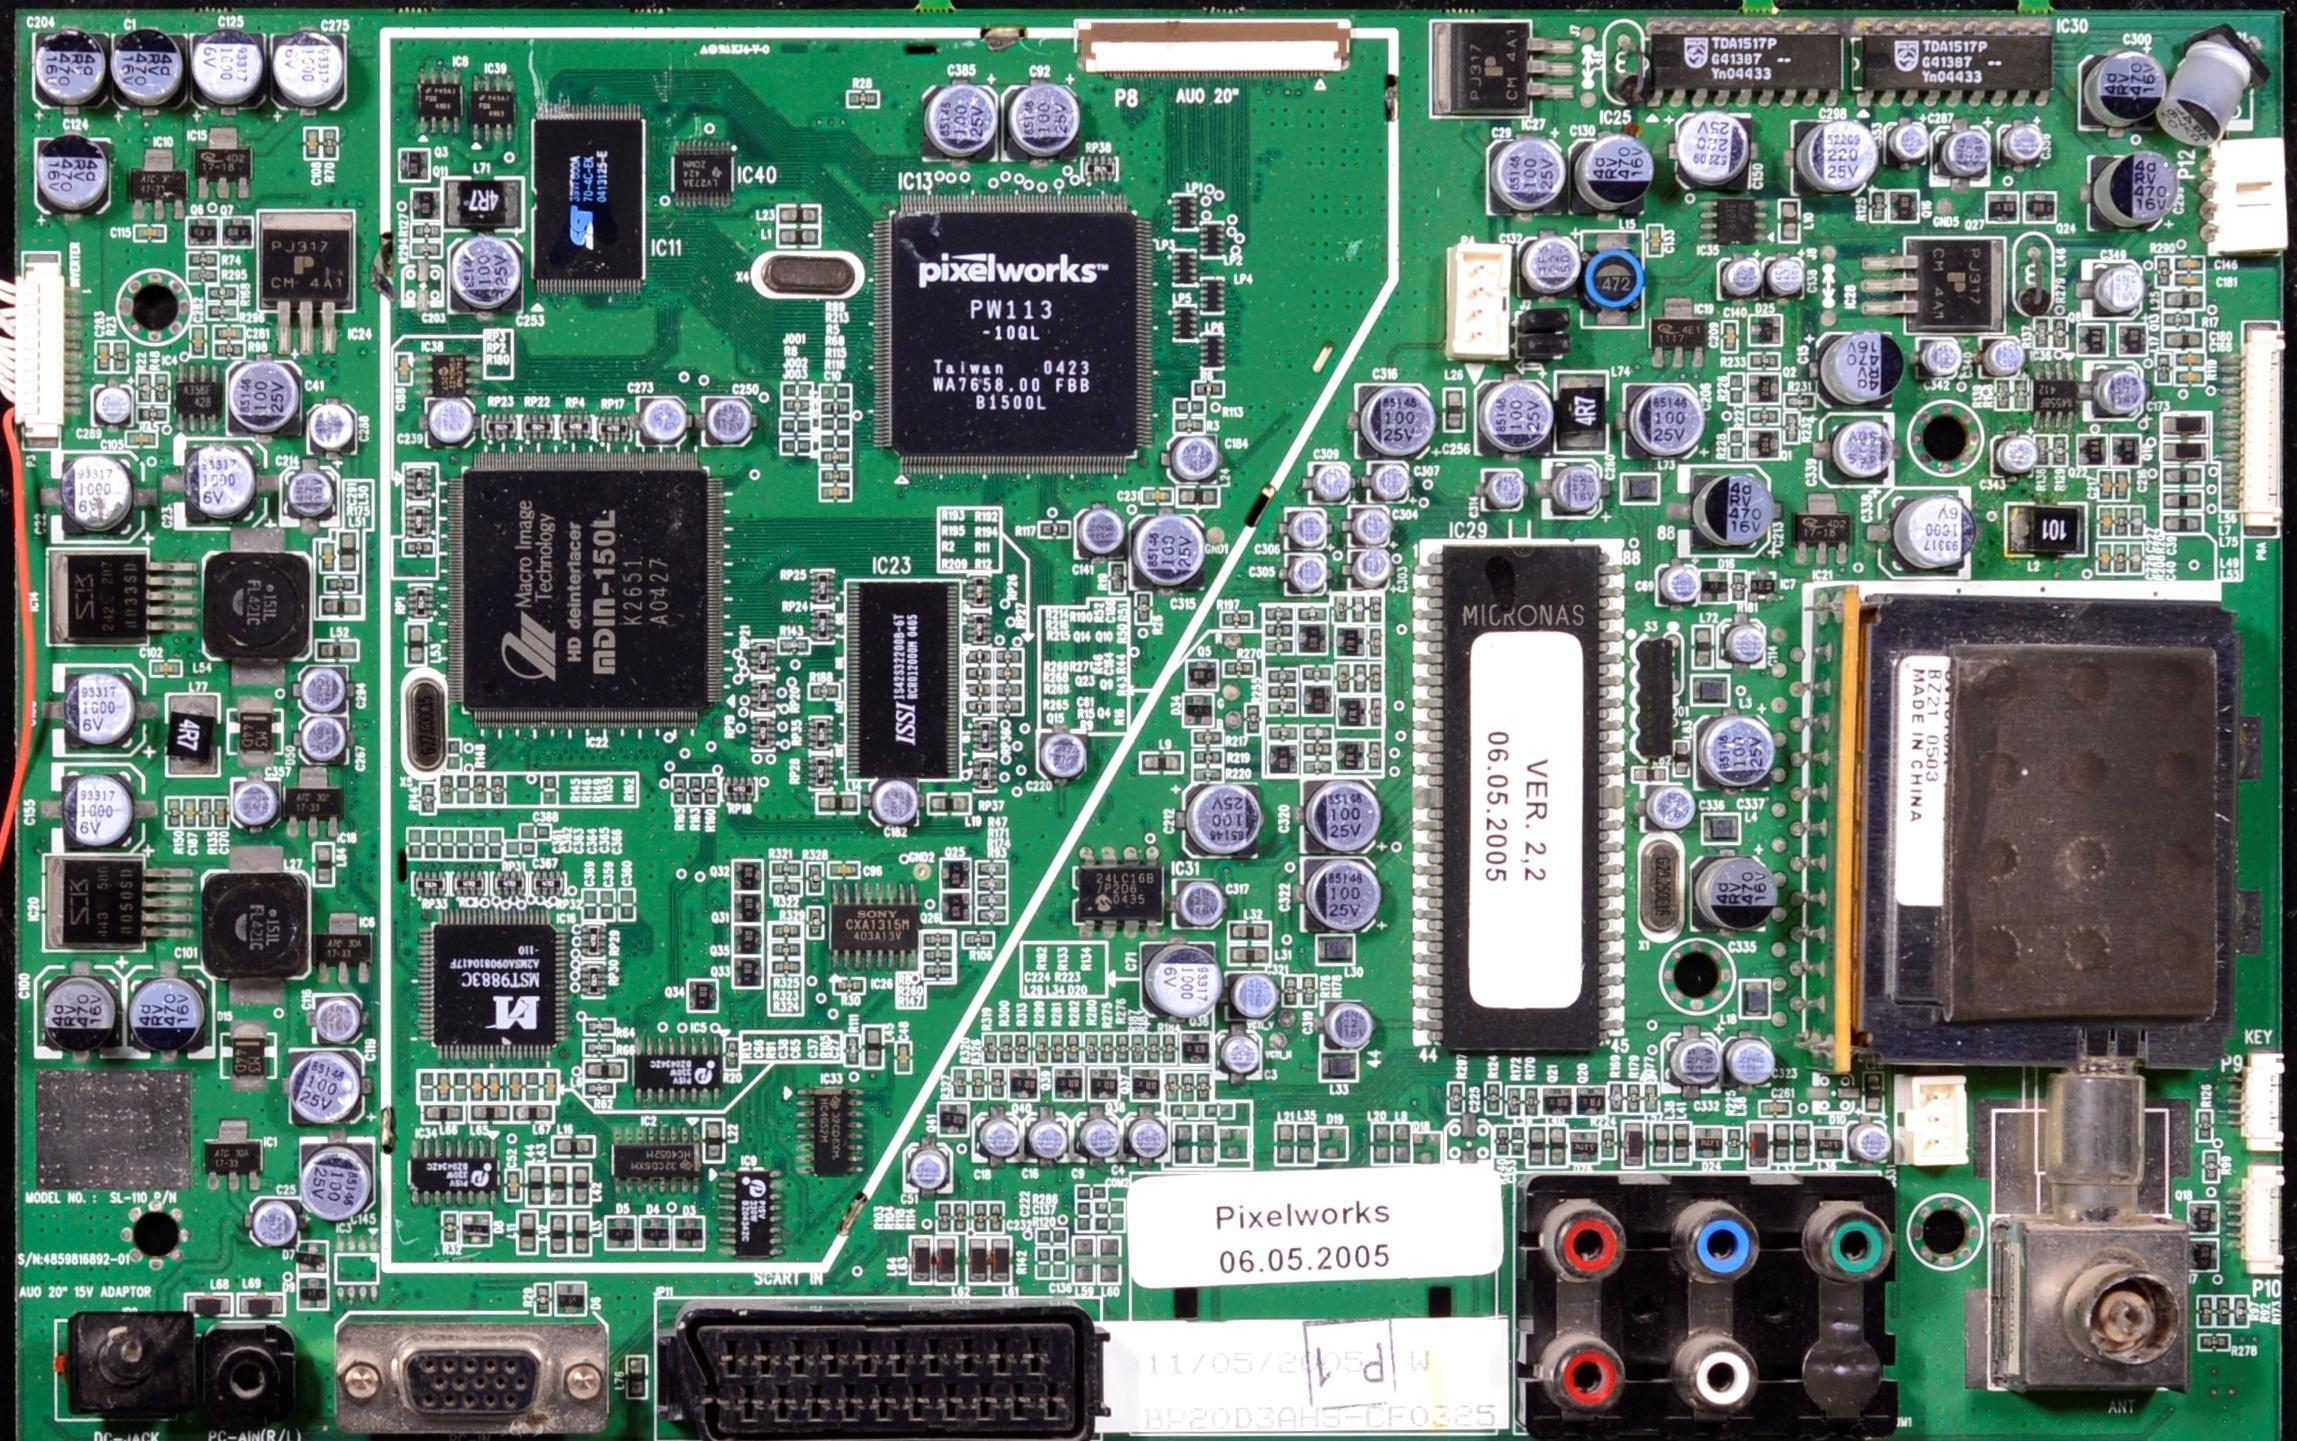Capacitor: (1698, 472, 1762, 548), (56, 777, 131, 840), (309, 1152, 371, 1218), (190, 447, 249, 516), (456, 249, 520, 312), (117, 31, 174, 99), (291, 1057, 355, 1117), (928, 90, 992, 148), (1812, 124, 1870, 189), (72, 677, 127, 744), (1153, 951, 1224, 1005), (42, 136, 99, 200), (1833, 338, 1895, 396), (49, 979, 107, 1042), (1365, 391, 1427, 448), (2111, 161, 2165, 226), (1499, 141, 1556, 199), (41, 38, 96, 100), (1909, 500, 1964, 559), (66, 470, 123, 527), (240, 368, 293, 427), (198, 37, 250, 94), (1194, 796, 1246, 850), (1708, 862, 1761, 916), (1322, 789, 1375, 843), (1138, 524, 1197, 573), (1687, 123, 1738, 176), (1833, 420, 1884, 473), (1704, 725, 1757, 777), (2097, 60, 2148, 112), (1493, 388, 1542, 444), (279, 38, 339, 82), (1589, 142, 1635, 197), (1637, 392, 1682, 448), (1319, 866, 1367, 918), (1016, 93, 1064, 143), (143, 988, 196, 1032), (285, 471, 334, 516), (2097, 371, 2142, 411), (1041, 734, 1081, 775), (2100, 262, 2136, 307), (256, 1207, 294, 1249), (1943, 134, 1985, 173), (1533, 244, 1575, 282), (317, 406, 354, 448), (908, 1149, 944, 1189), (645, 401, 682, 441), (235, 784, 272, 822), (1559, 465, 1592, 506), (1676, 1044, 1713, 1080), (1657, 796, 1689, 835), (716, 402, 751, 438), (1086, 514, 1125, 546), (305, 723, 345, 756), (1992, 439, 2029, 470), (1176, 445, 1211, 478), (1289, 563, 1323, 598), (984, 1119, 1015, 1155), (1332, 1007, 1363, 1046), (326, 1001, 354, 1041), (305, 676, 341, 708), (1031, 1122, 1062, 1156), (1729, 1044, 1764, 1074), (1186, 886, 1217, 921), (1084, 1124, 1117, 1153), (436, 404, 467, 436), (1373, 462, 1402, 495), (100, 389, 127, 423), (1853, 1126, 1883, 1156), (1726, 626, 1756, 658), (1133, 1124, 1162, 1157), (1315, 467, 1342, 499), (1991, 344, 2018, 377), (1489, 475, 1518, 503), (1894, 130, 1923, 156), (2009, 131, 2039, 156), (1925, 344, 1954, 369), (1670, 569, 1694, 597), (1360, 508, 1381, 540), (1356, 555, 1381, 581), (1291, 516, 1316, 541), (1775, 261, 1797, 285), (1735, 263, 1753, 293), (303, 130, 317, 161), (397, 356, 410, 386), (137, 224, 164, 239), (191, 323, 203, 355), (1758, 1106, 1790, 1115), (95, 341, 107, 369), (149, 663, 180, 673), (323, 545, 335, 567), (128, 431, 155, 442), (185, 798, 194, 825), (505, 1175, 515, 1200), (1078, 1202, 1104, 1212), (216, 329, 246, 337), (898, 1044, 908, 1067), (620, 893, 631, 917), (489, 1073, 498, 1099), (489, 832, 498, 859), (523, 827, 544, 837), (1725, 324, 1733, 348), (410, 833, 418, 858), (442, 832, 449, 855), (833, 866, 856, 875), (546, 1075, 555, 1097), (2116, 473, 2124, 495), (1147, 492, 1169, 499), (508, 843, 530, 851), (1653, 228, 1660, 254), (508, 1074, 515, 1099), (2100, 543, 2106, 567), (215, 803, 224, 823), (430, 829, 436, 853), (440, 1078, 447, 1100), (2103, 510, 2109, 533), (474, 834, 482, 857), (827, 472, 845, 480), (826, 488, 845, 496), (473, 1074, 479, 1094), (2175, 259, 2193, 266), (600, 894, 608, 913), (2105, 475, 2109, 498), (2180, 358, 2203, 364), (2178, 277, 2198, 283), (459, 834, 465, 854), (2180, 375, 2195, 381), (587, 893, 591, 914)
IC: (894, 212, 1139, 466), (469, 469, 701, 718), (851, 583, 953, 773), (536, 123, 641, 277), (434, 922, 550, 1042), (1651, 34, 1831, 86), (44, 853, 144, 945), (260, 216, 349, 318), (1870, 42, 2039, 89), (1432, 25, 1527, 110), (1907, 238, 1990, 332), (56, 561, 138, 637), (1076, 868, 1157, 922), (829, 905, 920, 950), (674, 143, 731, 202), (814, 1089, 851, 1172), (137, 148, 189, 204), (409, 1158, 497, 1189), (741, 1171, 771, 1252), (613, 1147, 702, 1175), (640, 1058, 716, 1085), (419, 78, 462, 121), (200, 141, 243, 184), (180, 378, 220, 419), (207, 1144, 263, 1170), (1794, 515, 1846, 541), (291, 786, 335, 813), (479, 80, 510, 121), (431, 356, 462, 394), (323, 935, 368, 960), (1659, 319, 1701, 344), (1722, 204, 1749, 242), (2042, 381, 2073, 408), (1754, 577, 1772, 596)
Resistor: (1222, 612, 1254, 624), (1109, 565, 1122, 592), (325, 130, 337, 159), (326, 579, 355, 591), (779, 639, 804, 652), (1076, 1186, 1103, 1197), (1783, 395, 1810, 406), (807, 683, 835, 694), (673, 777, 684, 805), (974, 861, 1003, 873), (215, 347, 241, 358), (2035, 441, 2047, 467), (1224, 660, 1248, 673), (771, 884, 796, 895), (1065, 1032, 1076, 1060), (774, 924, 801, 935), (2201, 1111, 2209, 1144), (955, 1207, 966, 1230), (2199, 1301, 2210, 1324), (1196, 383, 1220, 395), (925, 932, 948, 943), (724, 1041, 734, 1067), (953, 1069, 963, 1095), (2166, 314, 2193, 324), (137, 410, 164, 420), (995, 649, 1015, 663), (688, 775, 698, 802), (1727, 377, 1740, 398), (1750, 410, 1770, 421), (1350, 594, 1361, 616), (775, 862, 797, 873), (191, 271, 216, 281), (1197, 771, 1222, 780), (704, 778, 714, 802), (422, 787, 431, 812), (169, 804, 180, 829), (1173, 401, 1201, 410), (2054, 439, 2063, 466), (2207, 1154, 2217, 1177), (209, 288, 233, 297), (785, 402, 809, 412), (1781, 415, 1791, 438), (823, 438, 847, 448), (1733, 433, 1744, 454), (1333, 598, 1344, 618), (1250, 705, 1260, 728), (772, 962, 795, 971), (851, 93, 871, 104), (587, 1022, 614, 1031), (986, 1033, 994, 1059), (1450, 1085, 1461, 1107), (1527, 1088, 1537, 1109), (137, 378, 147, 400), (1193, 733, 1215, 743), (543, 776, 553, 797), (1052, 1033, 1060, 1058), (847, 1039, 855, 1064), (1487, 1085, 1496, 1110), (116, 343, 125, 369), (156, 377, 165, 402), (998, 686, 1023, 694), (198, 802, 206, 826), (1368, 599, 1378, 620), (835, 979, 854, 990), (1169, 1072, 1177, 1095), (1628, 1085, 1636, 1109), (1176, 420, 1200, 429), (1371, 668, 1380, 691), (1370, 700, 1377, 723), (968, 933, 991, 942), (976, 1072, 982, 1100), (2056, 321, 2063, 349), (978, 896, 1006, 903), (1045, 525, 1064, 535), (1270, 609, 1288, 619), (969, 650, 988, 660), (999, 700, 1017, 711), (1182, 1074, 1190, 1095), (415, 228, 437, 236), (825, 454, 847, 462), (1735, 576, 1743, 598), (1136, 598, 1144, 620), (1002, 1034, 1009, 1061), (1606, 1130, 1614, 1157), (1751, 357, 1777, 364), (980, 882, 1005, 889), (1511, 1087, 1517, 1112), (1079, 1218, 1104, 1226), (2203, 1338, 2222, 1347), (415, 246, 439, 252), (212, 309, 233, 317), (2037, 321, 2043, 346), (822, 390, 847, 396), (2115, 513, 2123, 533), (2132, 547, 2140, 571), (1272, 727, 1291, 735), (1369, 745, 1378, 766), (1307, 759, 1324, 769), (812, 866, 818, 891), (929, 949, 949, 958), (1117, 1035, 1124, 1058), (1135, 1036, 1142, 1059), (1098, 1037, 1106, 1060), (824, 422, 846, 428), (1338, 663, 1345, 685), (777, 943, 800, 949), (1999, 383, 2006, 402), (2015, 387, 2023, 405), (1303, 609, 1321, 618), (928, 968, 946, 976), (1270, 637, 1285, 647), (1150, 1034, 1156, 1056), (1614, 1085, 1620, 1108), (540, 1287, 546, 1308), (2160, 259, 2166, 281), (2158, 355, 2165, 377), (823, 406, 844, 414), (2116, 548, 2122, 570), (996, 670, 1017, 677), (1354, 667, 1361, 689), (980, 913, 1000, 920), (811, 913, 818, 934), (1303, 980, 1310, 1001), (1088, 1034, 1094, 1062), (968, 669, 985, 678), (1306, 725, 1323, 734), (993, 1072, 999, 1093), (1650, 1087, 1656, 1107), (976, 1207, 982, 1227), (2235, 1301, 2243, 1322), (194, 256, 214, 263), (491, 778, 498, 798), (1017, 1035, 1023, 1059), (1165, 1036, 1171, 1055), (2219, 1301, 2226, 1319), (1874, 197, 1880, 215), (1303, 669, 1321, 676), (2134, 510, 2139, 533), (477, 777, 482, 801), (1272, 690, 1288, 697), (967, 701, 985, 708), (1307, 744, 1324, 750), (586, 1046, 607, 1051), (992, 1207, 997, 1228), (444, 779, 450, 801), (587, 1085, 607, 1091), (1201, 1078, 1206, 1097), (941, 1207, 946, 1227), (1269, 626, 1285, 632), (971, 684, 986, 691), (1195, 755, 1215, 761), (1287, 980, 1292, 999), (450, 1217, 453, 1242), (1374, 630, 1378, 654), (1272, 670, 1288, 676), (1037, 1035, 1041, 1057), (1273, 702, 1288, 708)
Transistor: (934, 1104, 964, 1135), (1265, 745, 1297, 771), (2189, 1240, 2216, 1269), (404, 152, 432, 179), (2075, 438, 2103, 463), (415, 192, 442, 218), (191, 220, 215, 247), (1014, 1066, 1036, 1096), (690, 984, 715, 1009), (2194, 1206, 2218, 1231), (1058, 1070, 1079, 1099), (1751, 374, 1772, 402), (225, 216, 246, 245), (1301, 627, 1326, 651), (1092, 1072, 1116, 1096), (735, 961, 758, 985), (2113, 442, 2138, 464), (1137, 1074, 1160, 1095), (1547, 1089, 1569, 1112), (2081, 329, 2102, 352), (1759, 432, 1781, 455), (1189, 663, 1210, 686), (739, 865, 760, 888), (1338, 744, 1357, 768), (946, 862, 967, 884), (1896, 195, 1915, 217), (1304, 685, 1324, 709), (945, 895, 965, 918), (1339, 698, 1358, 721), (741, 898, 758, 922), (1580, 1090, 1599, 1112), (735, 931, 754, 951), (1990, 199, 2009, 218), (2028, 200, 2047, 218), (1343, 632, 1359, 650)
